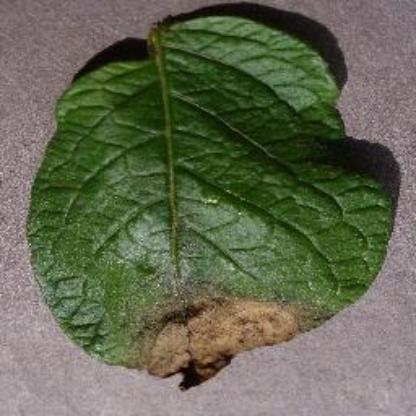Late-Blight: (14, 10, 404, 384)
